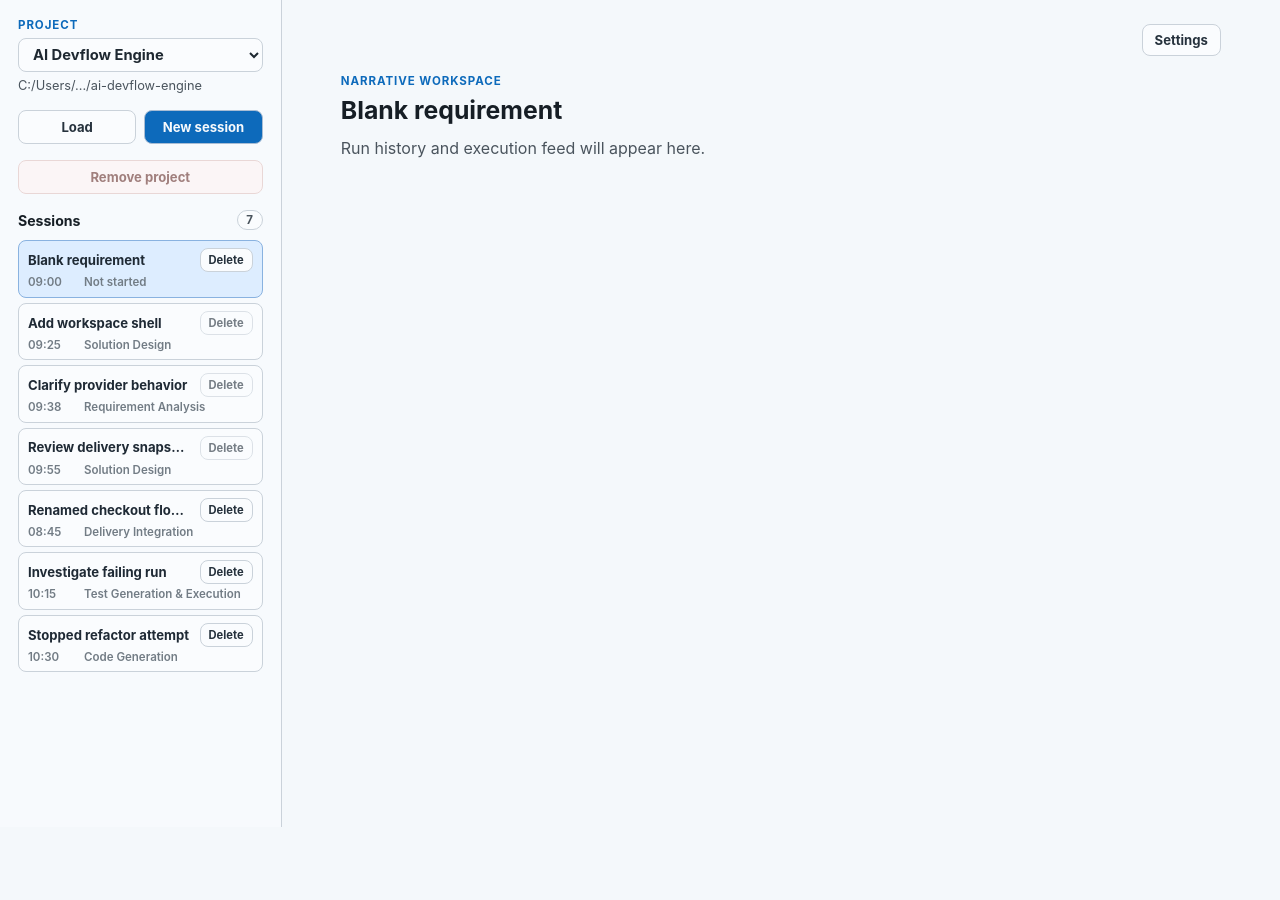
Test: WorkspaceShell › switches to the open Inspector layout when a feed detail opens
Step 1. Click the button with aria-label "Open Add workspace shell" → (110, 323), box [28, 315, 192, 331]
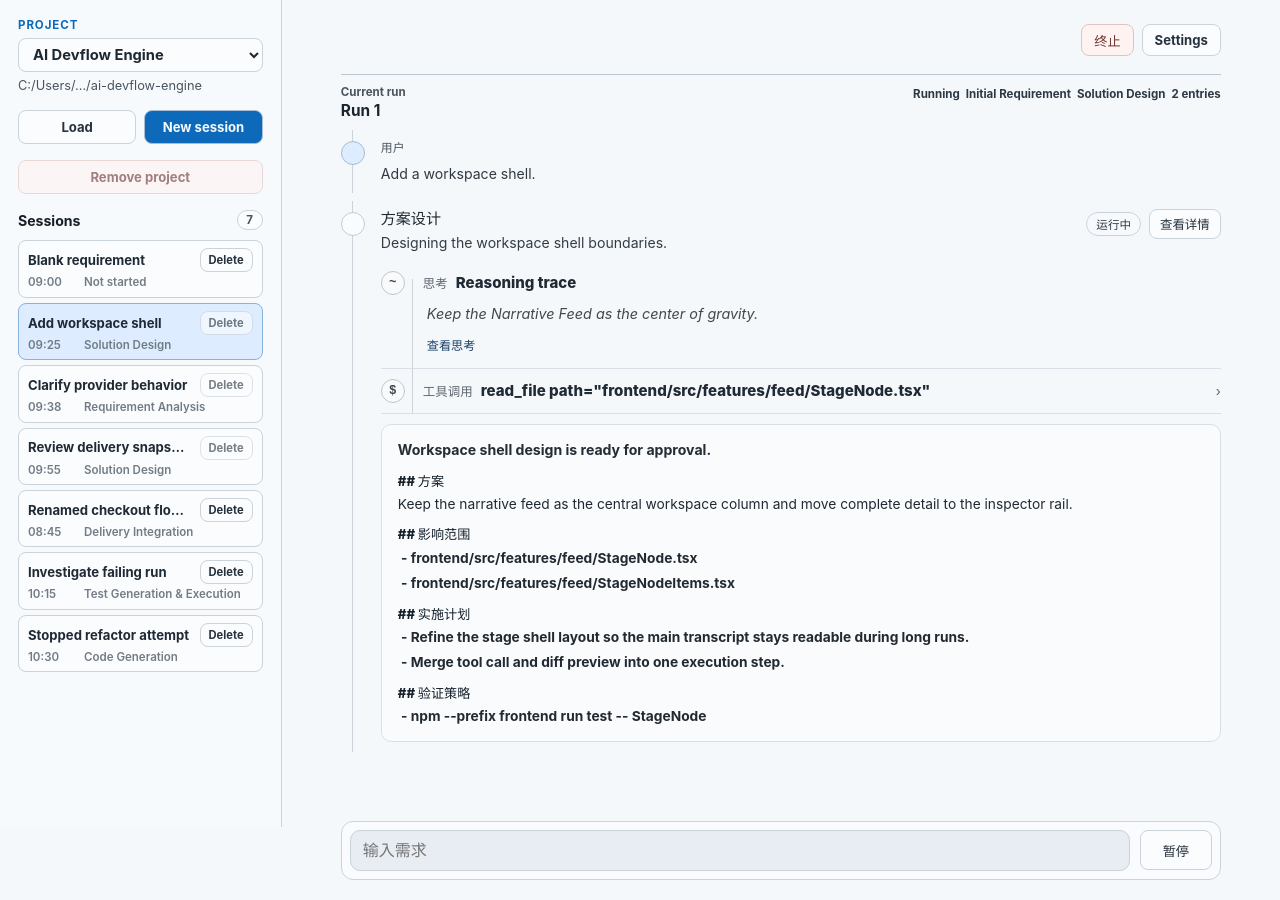
Step 2. Click the button with aria-label "查看方案设计详情" → (1185, 224), box [1149, 209, 1221, 239]
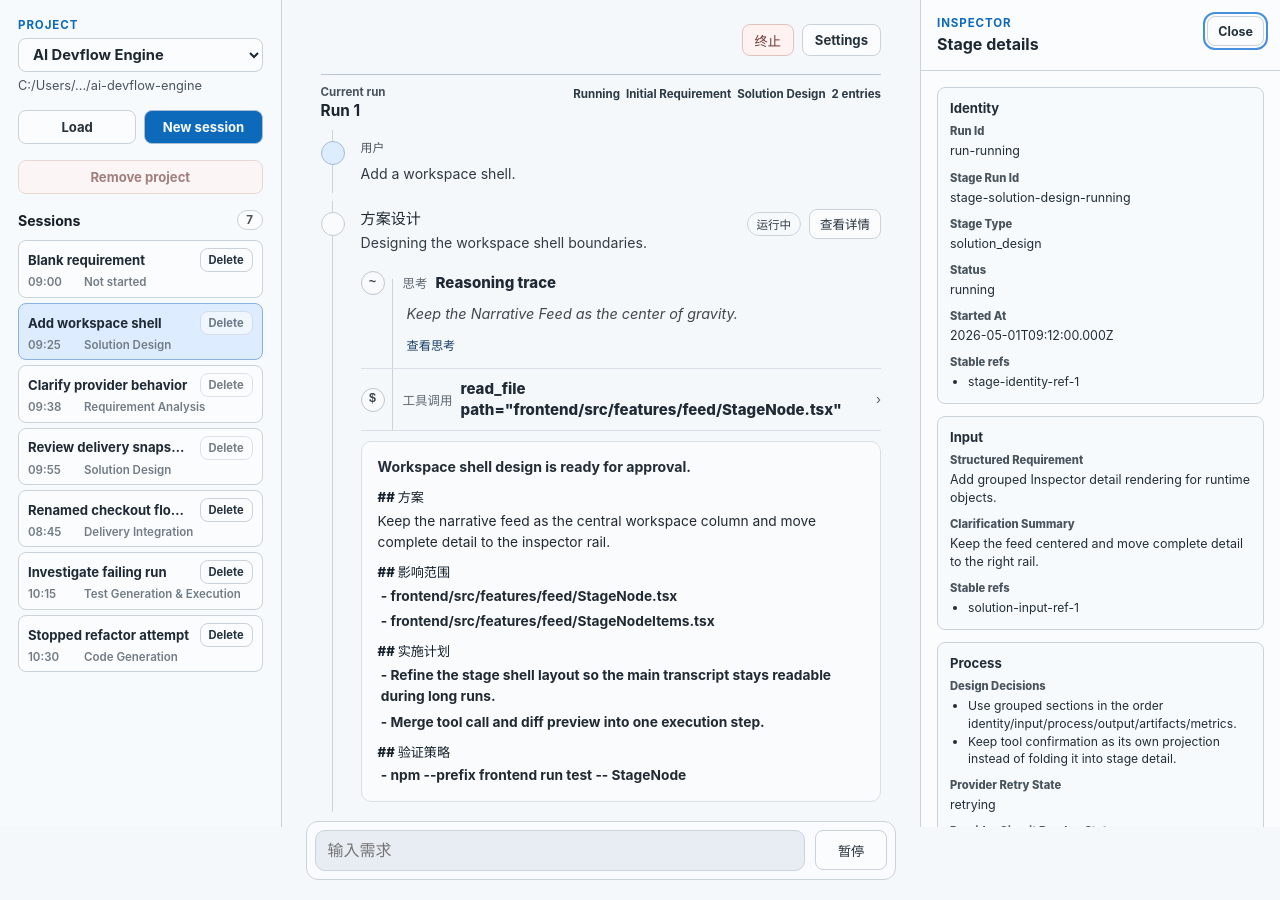
expect the element with class "narrative-feed" is shown: met, box [321, 74, 881, 812]
expect the form with class "composer" is shown: met, box [306, 821, 896, 880]
expect the element "Inspector" is shown: met, box [920, 0, 1279, 827]
